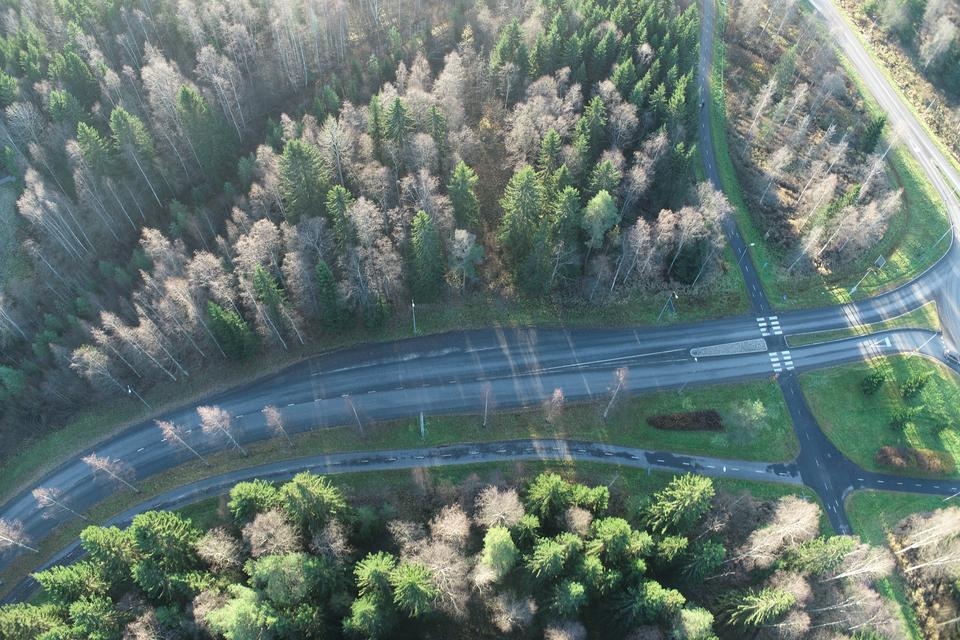intersection: (737, 292, 827, 397)
roundabout: (898, 186, 960, 410)
